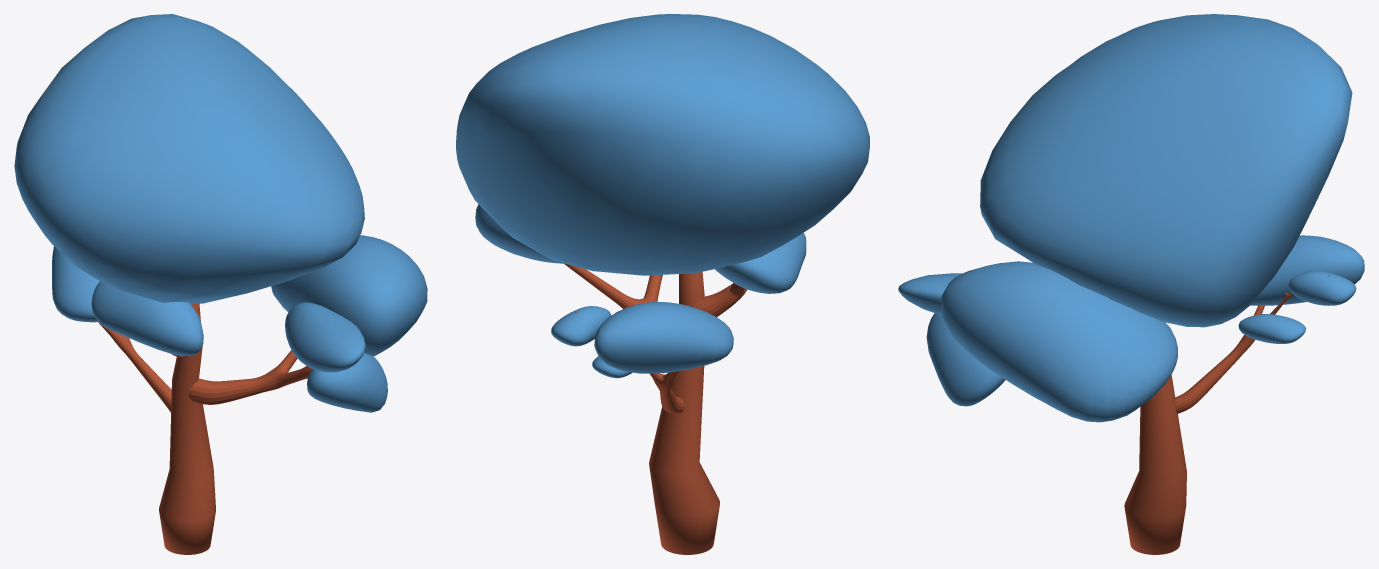
File: tree_2.fbx
3 renders of one model, left to right at view 1: azimuth 30°, elevation 25°; view 2: azimuth 150°, elevation 25°; view 3: azimuth 270°, elevation 25°, orthographic. The views are drawn at different scales.
Visible parts, largest first — view 1: Sphere.011, Sphere.007, Cylinder.002, Sphere.012, Sphere.013, Cylinder.003, Sphere.010, Sphere.008; view 2: Sphere.011, Cylinder.002, Sphere.008, Cylinder.003, Sphere.012, Sphere.014, Sphere.007; view 3: Sphere.011, Sphere.007, Cylinder.002, Sphere.008, Sphere.010, Sphere.014, Cylinder.003, Sphere.009, Sphere.013.
Boxes of the visible parts, left/top/right/bottom form: Sphere.011: left=14, top=14, right=364, bottom=303; Sphere.007: left=271, top=235, right=427, bottom=356; Cylinder.002: left=159, top=303, right=215, bottom=554; Sphere.012: left=91, top=281, right=203, bottom=356; Sphere.013: left=285, top=302, right=365, bottom=372; Cylinder.003: left=98, top=322, right=311, bottom=412; Sphere.010: left=307, top=353, right=387, bottom=412; Sphere.008: left=52, top=246, right=99, bottom=322; Sphere.011: left=456, top=14, right=869, bottom=275; Cylinder.002: left=649, top=272, right=719, bottom=554; Sphere.008: left=594, top=302, right=733, bottom=373; Cylinder.003: left=564, top=263, right=747, bottom=413; Sphere.012: left=715, top=233, right=806, bottom=293; Sphere.014: left=551, top=306, right=611, bottom=346; Sphere.007: left=475, top=204, right=564, bottom=263; Sphere.011: left=980, top=14, right=1352, bottom=327; Sphere.007: left=941, top=261, right=1177, bottom=422; Cylinder.002: left=1124, top=374, right=1186, bottom=554; Sphere.008: left=1250, top=235, right=1364, bottom=305; Sphere.010: left=926, top=313, right=1005, bottom=406; Sphere.014: left=1288, top=271, right=1356, bottom=305; Cylinder.003: left=1175, top=275, right=1329, bottom=413; Sphere.009: left=1238, top=314, right=1305, bottom=343; Sphere.013: left=898, top=273, right=962, bottom=315.
Bounding box in the file's own units: 2388 × 3035 × 2514.
